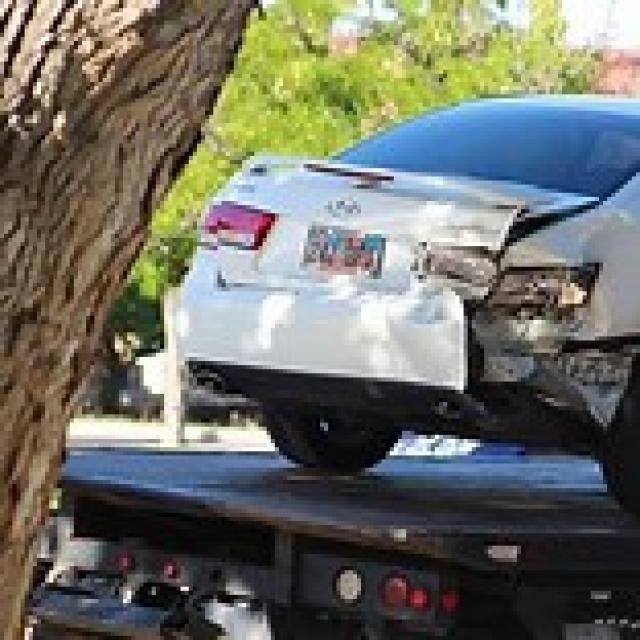Accident: (159, 75, 640, 509)
